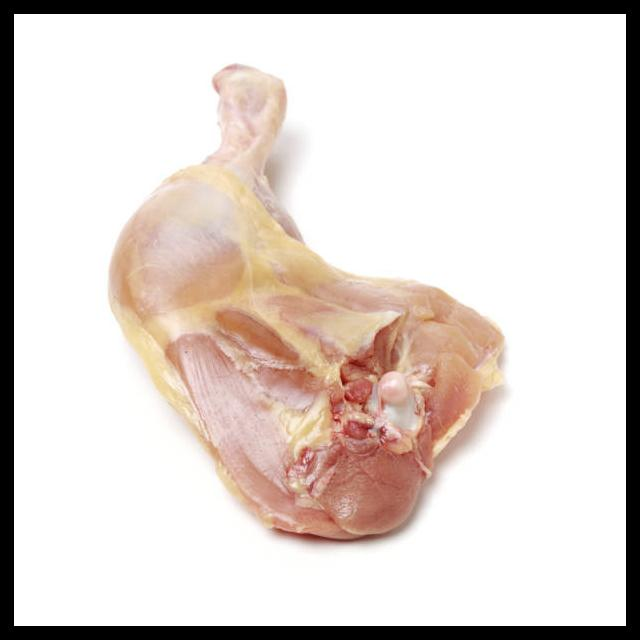chicken: (107, 59, 511, 542)
